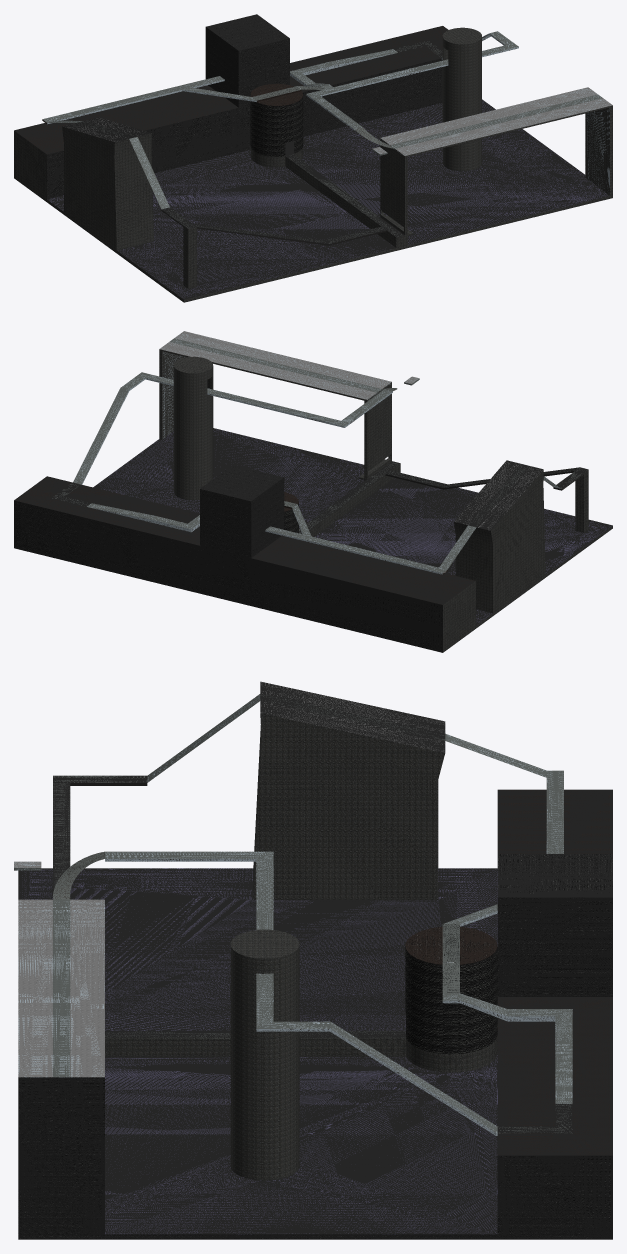
The model's file is Level1Layout.obj.
3 views of the same model, one above another, from view 1: azimuth 30°, elevation 25°; view 2: azimuth 150°, elevation 25°; view 3: azimuth 270°, elevation 25° (orthographic). The views are drawn at different scales.
Parts seen in each view (by area): view 1: Mesh1 Model; view 2: Mesh1 Model; view 3: Mesh1 Model.
Boxes of the visible parts, x1=… form: Mesh1 Model: x1=14, y1=14, x2=612, y2=302; Mesh1 Model: x1=14, y1=331, x2=612, y2=652; Mesh1 Model: x1=18, y1=681, x2=612, y2=1239.
Size of the model in its own units: 150 by 43.39 by 104.
Materials: 9 (7 with a texture image).
